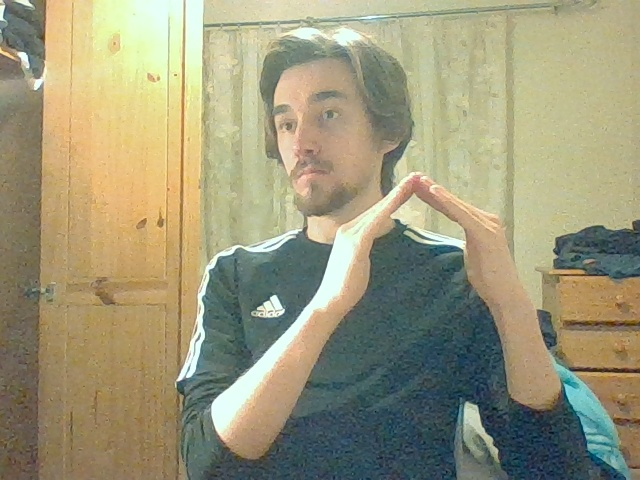home: (332, 172, 506, 265)
